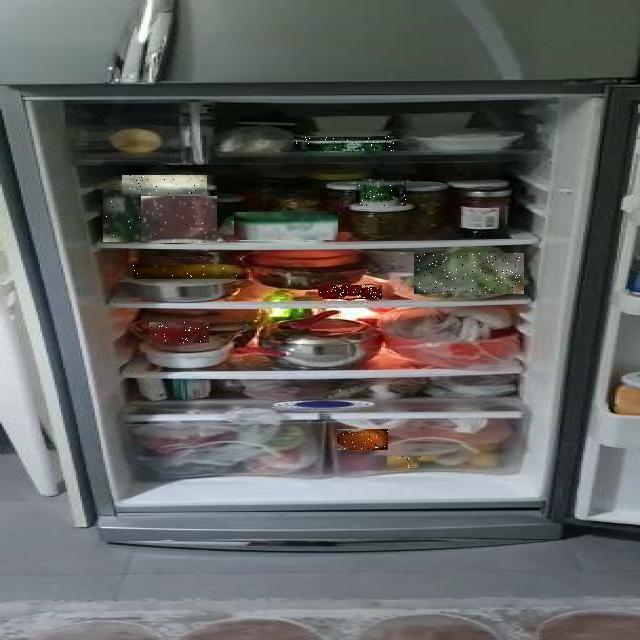banana: (9, 140, 258, 418)
cheese: (65, 120, 403, 360), (18, 97, 225, 291)
orange: (143, 225, 531, 640)
tomato: (32, 122, 250, 364)
